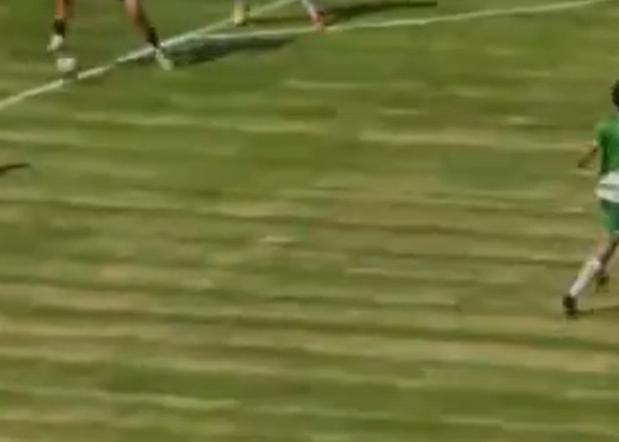ball: (48, 50, 94, 88)
